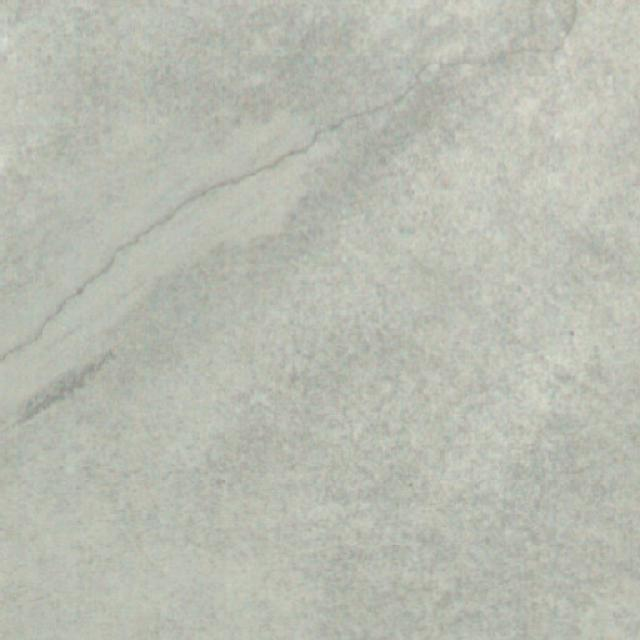Diagonal: (2, 3, 584, 369)
